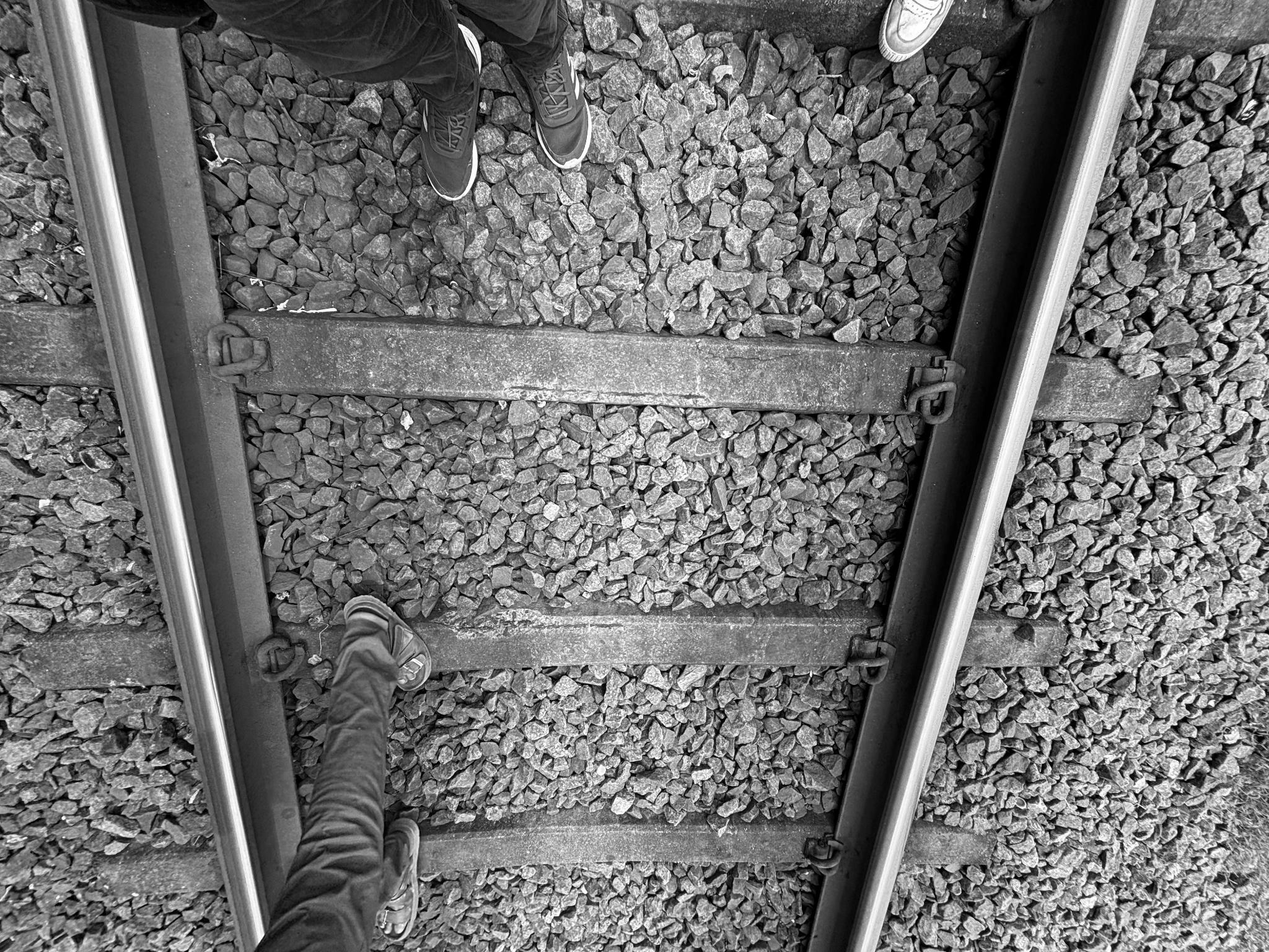cracks in midportion: (455, 367, 737, 426), (434, 591, 661, 656)
